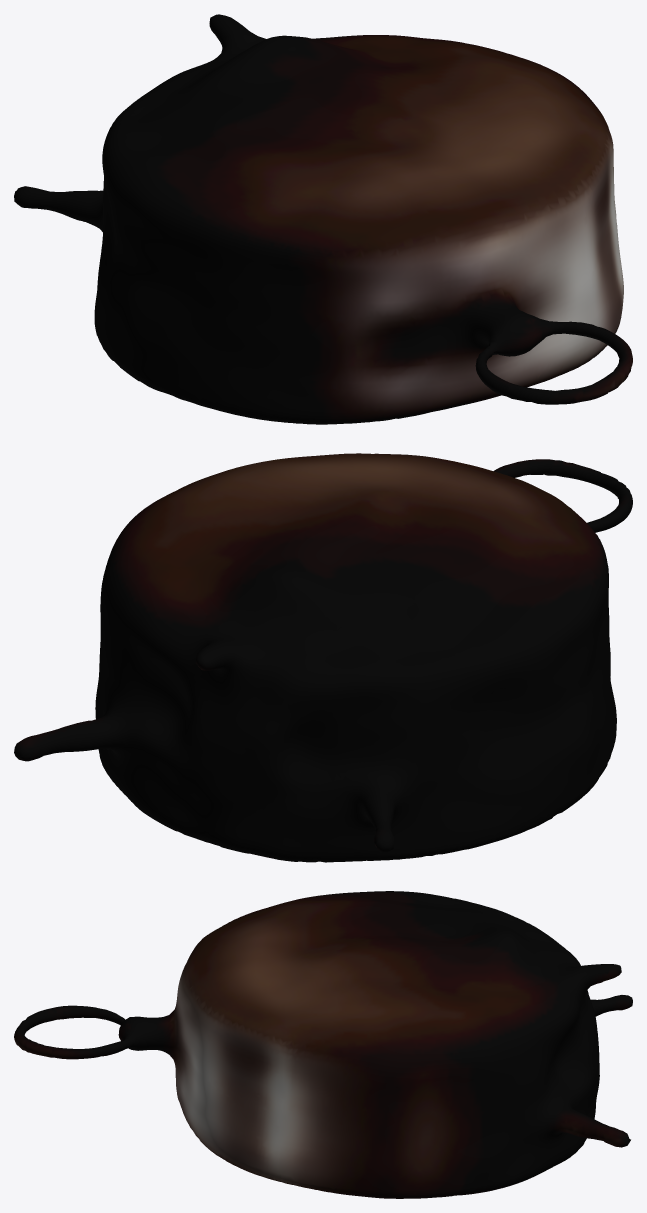
The model's file is alarm.glb.
The picture shows the model from 3 angles, top to bottom: view 1: azimuth 30°, elevation 25°; view 2: azimuth 150°, elevation 25°; view 3: azimuth 270°, elevation 25°; orthographic projection. The views are drawn at different scales.
Bounding box in the file's own units: 0.673 × 0.3373 × 0.9975.
